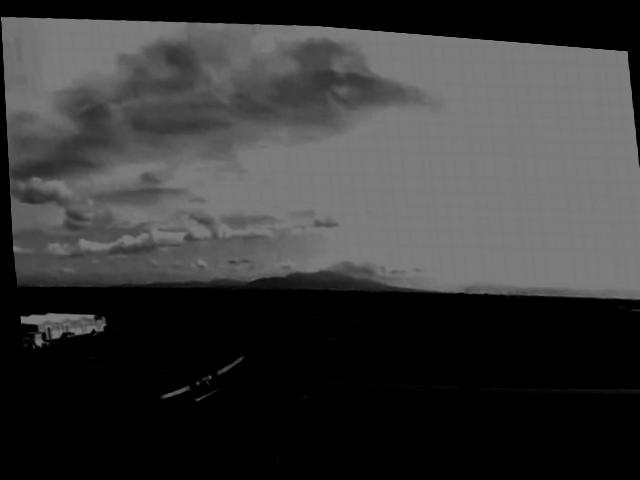hedef: (147, 340, 250, 411)
